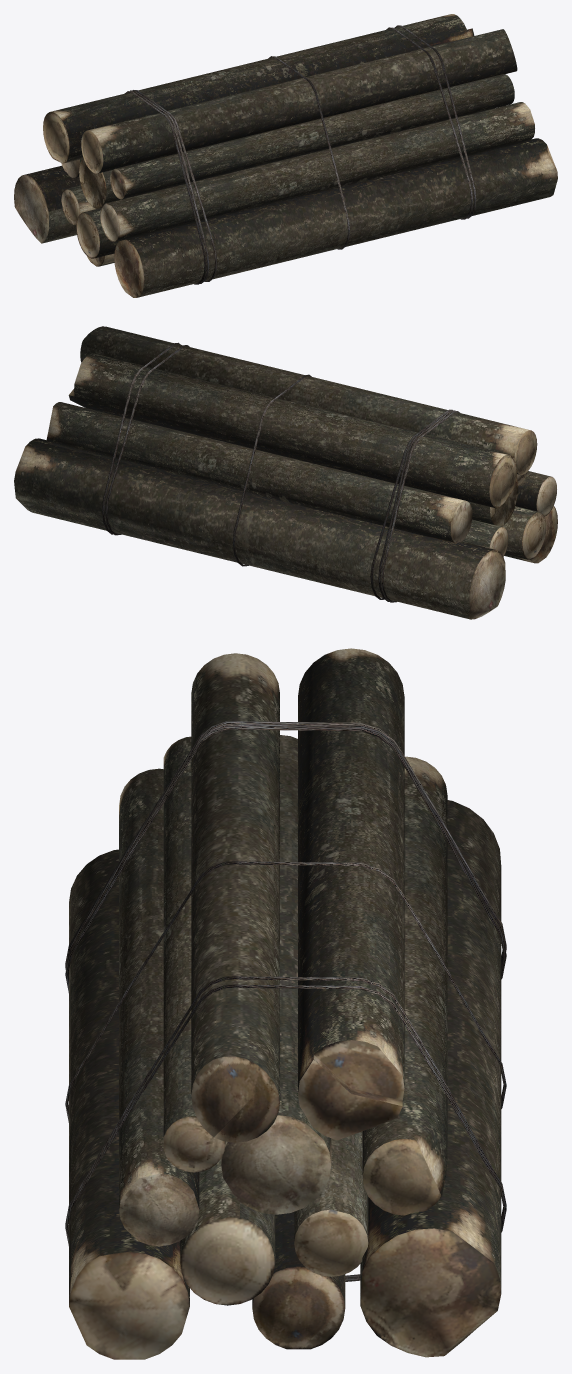
File: woodpile.fbx
3 renders of one model, top to bottom at view 1: azimuth 30°, elevation 25°; view 2: azimuth 150°, elevation 25°; view 3: azimuth 270°, elevation 25°, orthographic. The views are drawn at different scales.
Parts seen in each view (by area): view 1: wood; view 2: wood; view 3: wood.
Boxes of the visible parts, x1=… form: wood: x1=14, y1=14, x2=557, y2=297; wood: x1=14, y1=326, x2=557, y2=619; wood: x1=65, y1=648, x2=506, y2=1359.
Size of the model in its own units: 1.85 by 0.6025 by 0.7997.
1 material, 1 textured.
